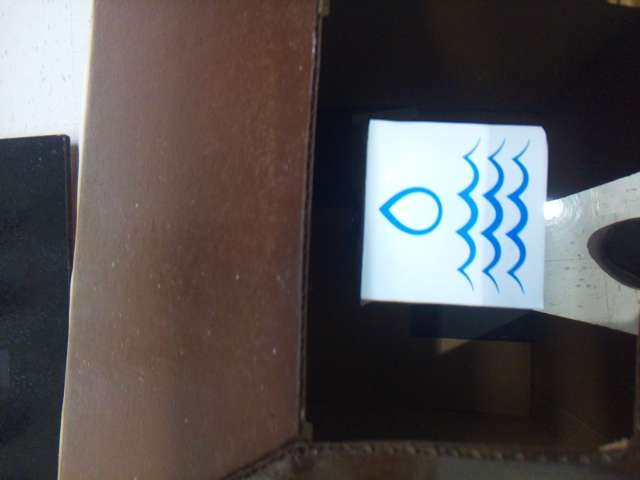water_barn: (361, 119, 544, 310)
